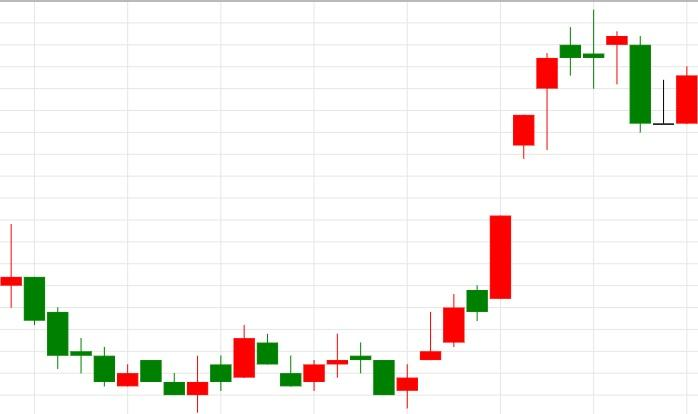three_white_soldiers_rise: (349, 293, 465, 409)
